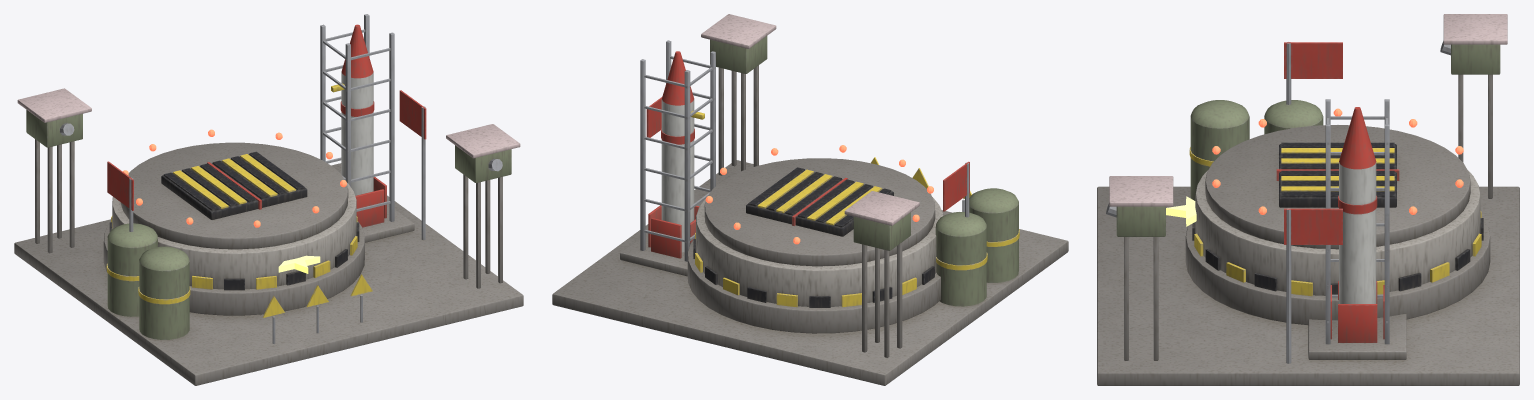
File: red_super.glb
3 views of the same model, side by side, from view 1: azimuth 30°, elevation 25°; view 2: azimuth 150°, elevation 25°; view 3: azimuth 270°, elevation 25° (orthographic). The views are drawn at different scales.
Parts seen in each view (by area): view 1: Hull; view 2: Hull; view 3: Hull.
Boxes of the visible parts, x1=… form: Hull: x1=14, y1=14, x2=523, y2=385; Hull: x1=552, y1=14, x2=1068, y2=385; Hull: x1=1097, y1=14, x2=1519, y2=385.
Size of the model in its own units: 9.1 by 5.55 by 8.6.
Materials: 11 (11 with a texture image).
